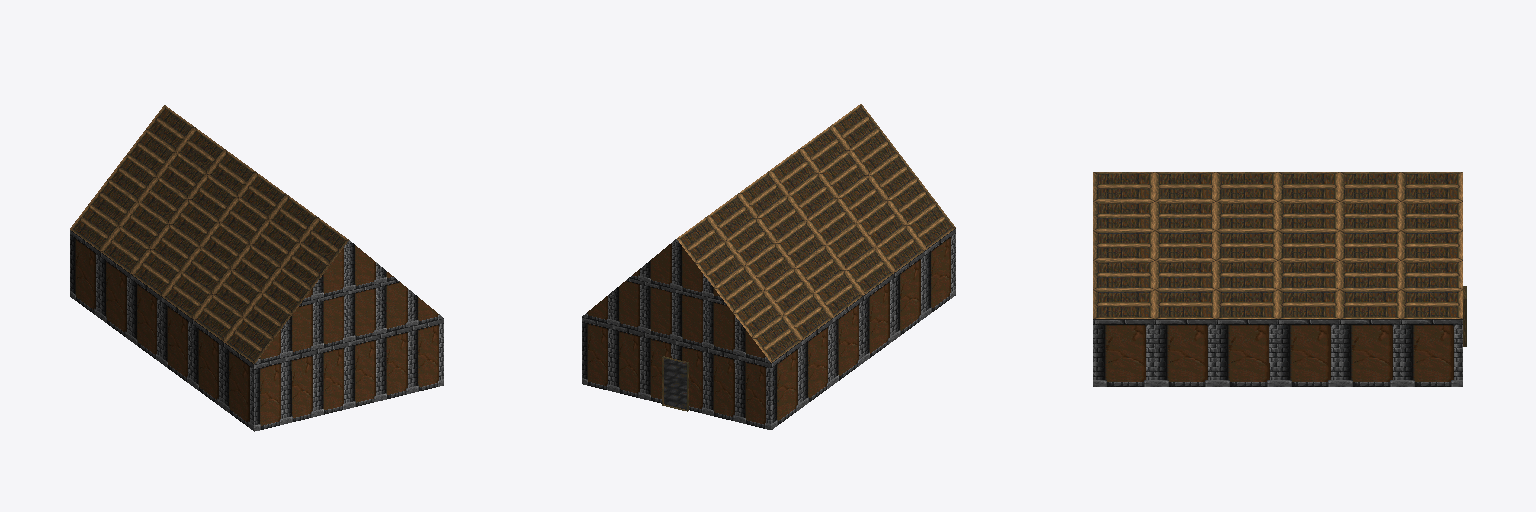
3 renders of one model, left to right at view 1: azimuth 30°, elevation 25°; view 2: azimuth 150°, elevation 25°; view 3: azimuth 270°, elevation 25°, orthographic.
Size of the model in its own units: 372 by 316 by 634.
5 materials, 5 textured.